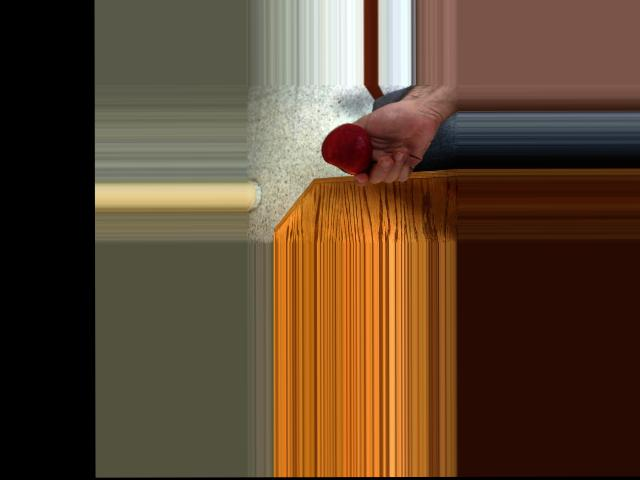apple: (320, 122, 375, 175)
